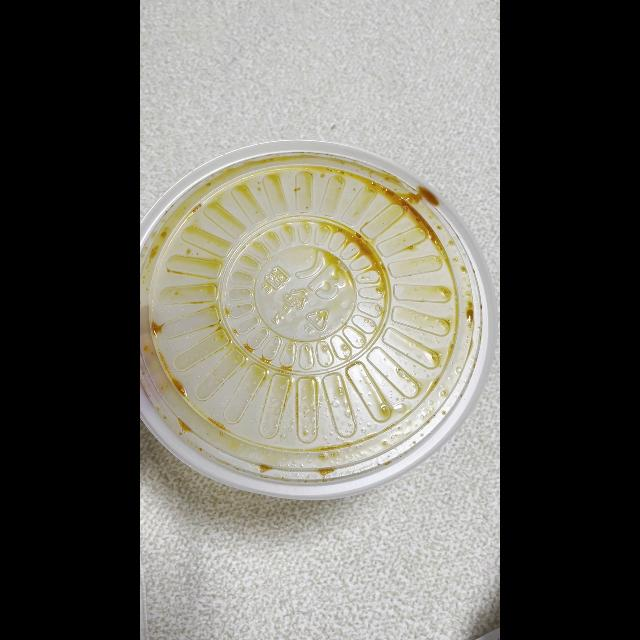dirty: (142, 154, 494, 500)
